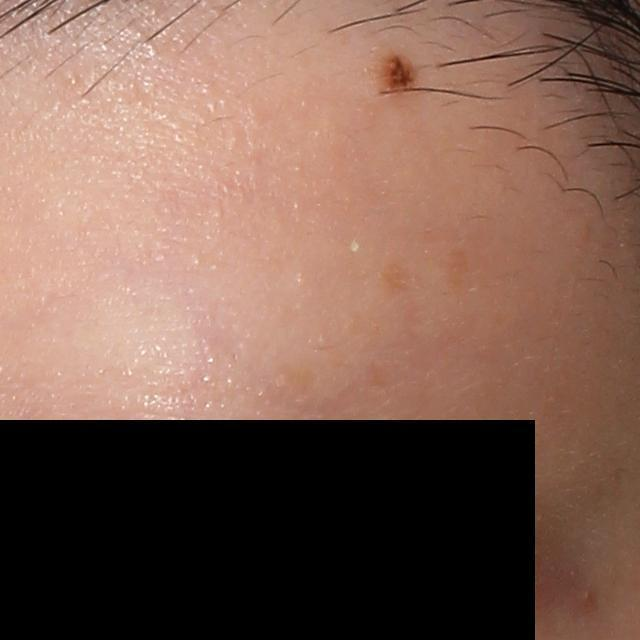melasma: (442, 245, 473, 307), (378, 258, 417, 302)
nevus: (372, 50, 420, 96)
